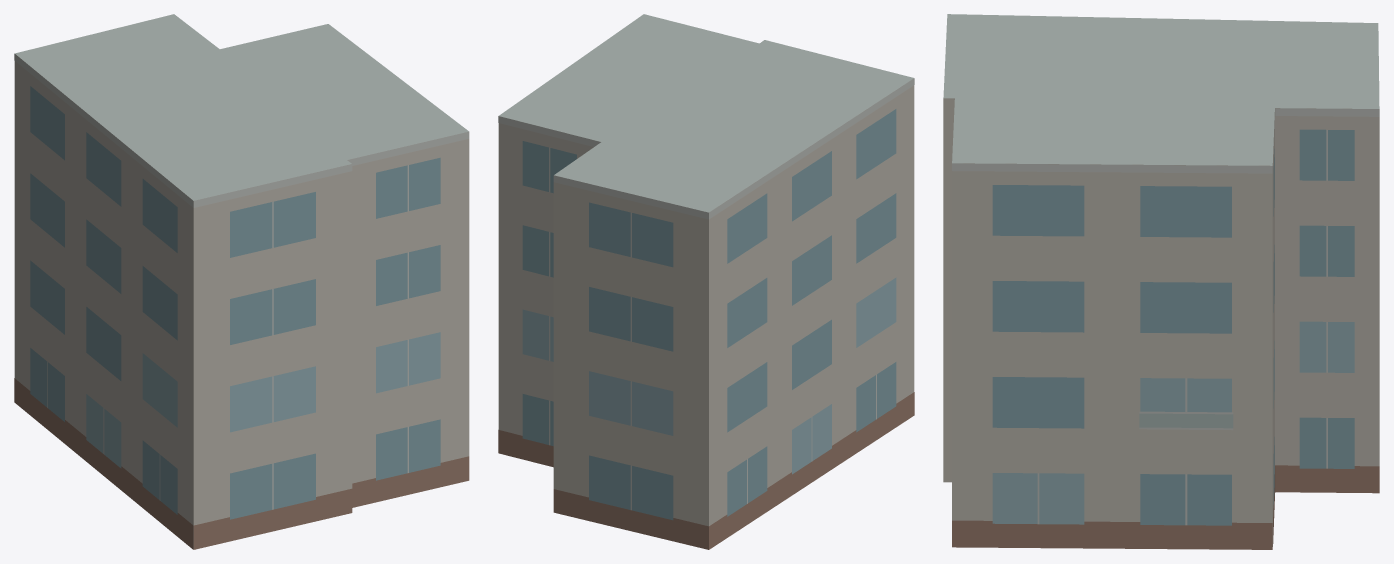
File: survey-upis-32832784.glb
3 views of the same model, side by side, from view 1: azimuth 30°, elevation 25°; view 2: azimuth 150°, elevation 25°; view 3: azimuth 270°, elevation 25° (orthographic). The views are drawn at different scales.
Visible parts, largest first — view 1: survey-upis-32832784.tmp; view 2: survey-upis-32832784.tmp; view 3: survey-upis-32832784.tmp.
Part boxes in pixels (bbox=[...]): survey-upis-32832784.tmp: bbox=[14, 14, 469, 549]; survey-upis-32832784.tmp: bbox=[498, 14, 914, 549]; survey-upis-32832784.tmp: bbox=[943, 14, 1379, 549].
Bounding box in the file's own units: 10.1 × 11.89 × 12.25.
